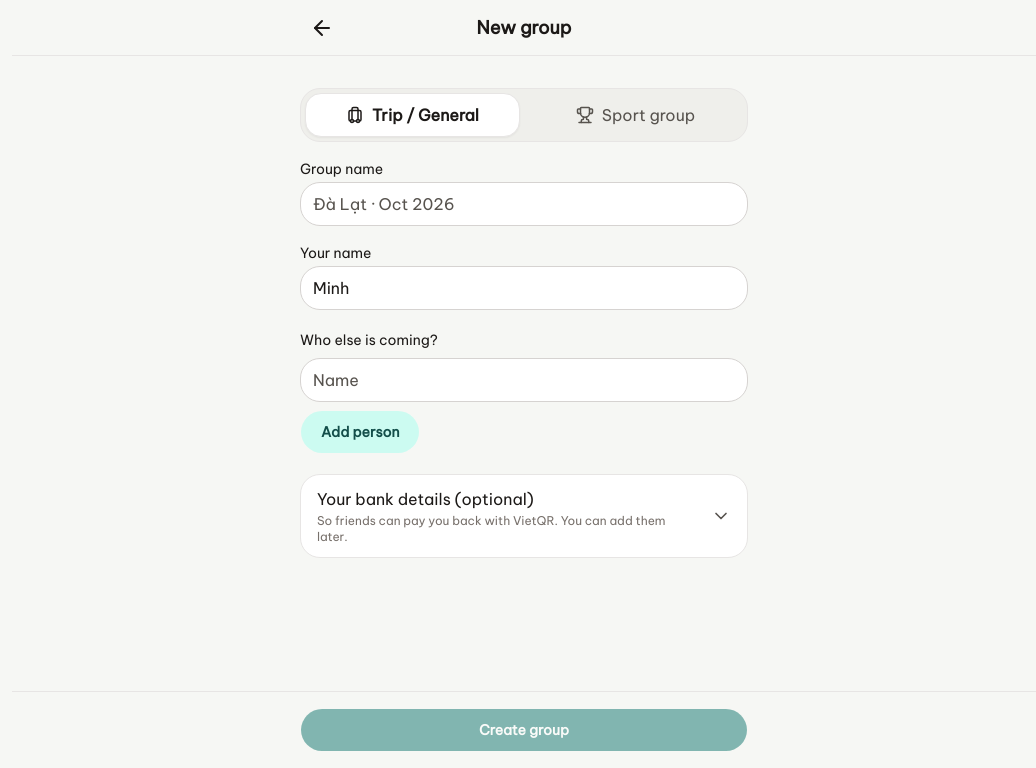
Test case: CreateTrip people › suggests people with an account and adds their account
This screenshot has width=1036, height=768.
Expected: the field labelled "Your name" is shown, x1=300 y1=266 x2=748 y2=310
Type "Đà Lạt" into the field labelled "Group name".
click(524, 204); type("Đà Lạt")  # box x1=300 y1=182 x2=748 y2=226
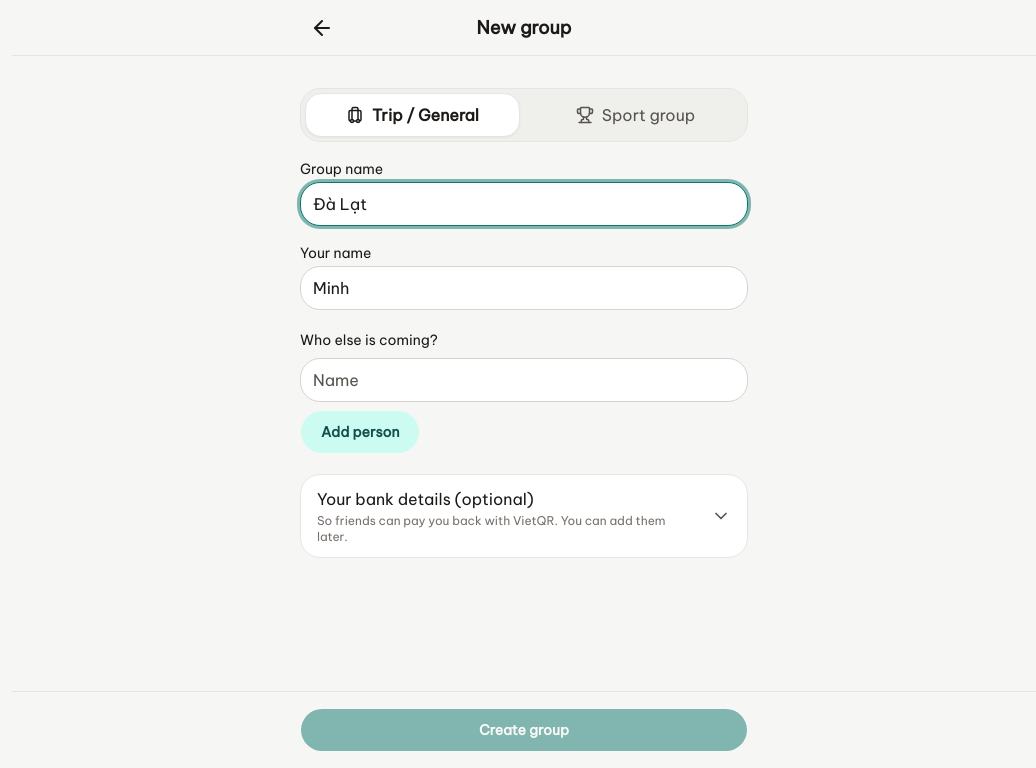
Type "An" into the dropdown with placeholder "Name".
click(524, 380); type("An")  # box x1=300 y1=358 x2=748 y2=402
Then press Enter
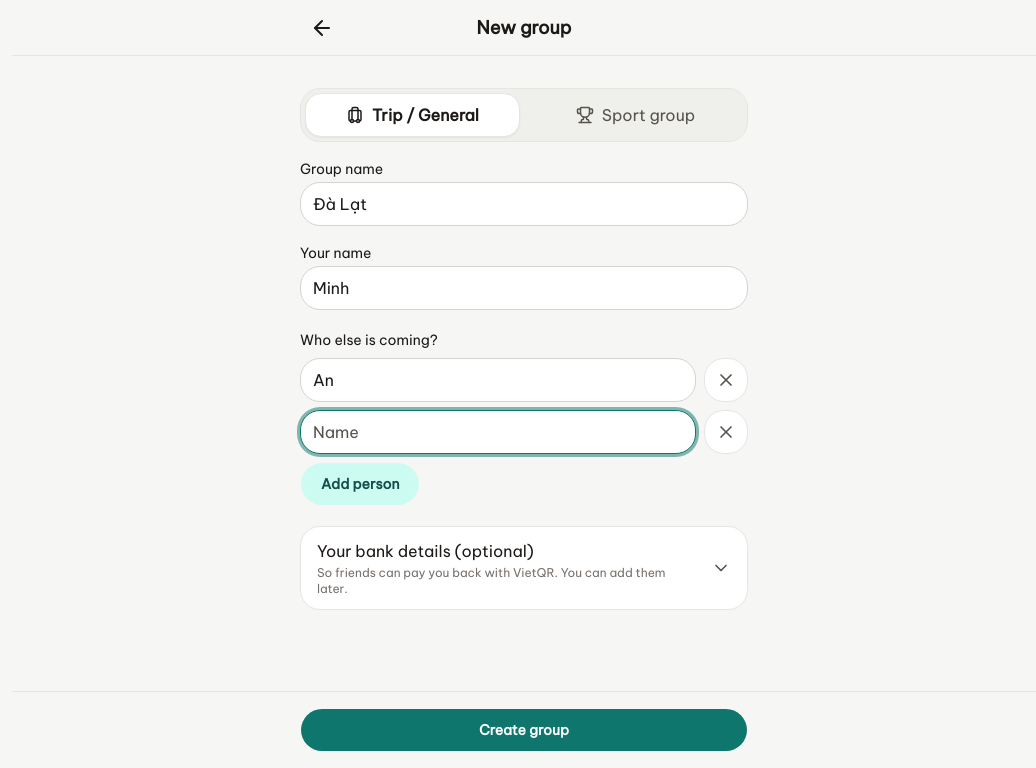
Type "ch" into the dropdown with placeholder "Name".
click(498, 432); type("ch")  # box x1=300 y1=410 x2=696 y2=454
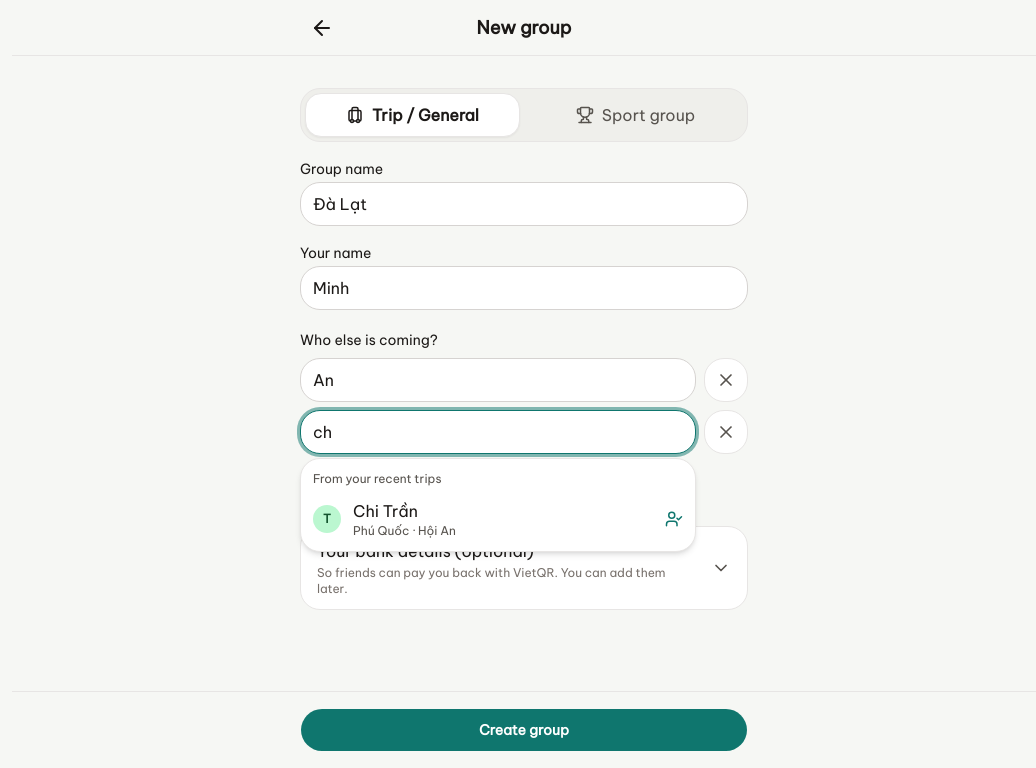
Result: the option "T Chi Trần Phú Quốc · Hội An" is shown
Click the option "T Chi Trần Phú Quốc · Hội An".
click(385, 511)  # box x1=301 y1=491 x2=695 y2=547
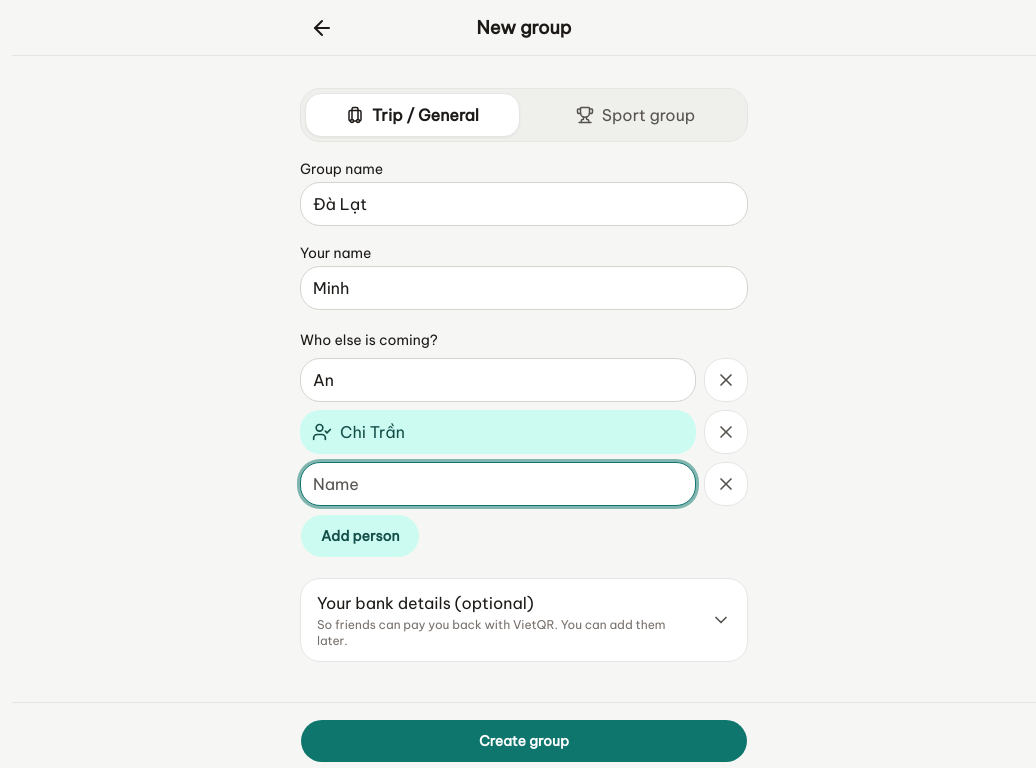
Result: the text "Chi Trần" is shown at x1=340 y1=420 x2=405 y2=444
Result: the list is gone
Click the button "Create group".
click(524, 741)  # box x1=300 y1=719 x2=748 y2=763
(page scrolled)
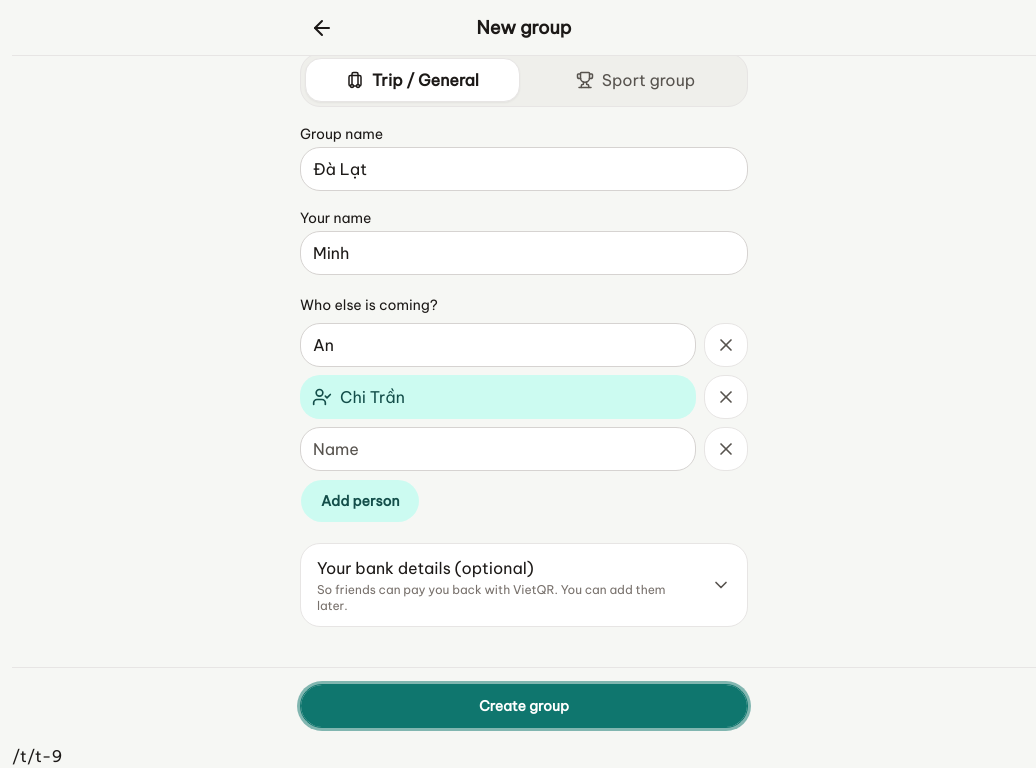
Result: the text with test id "location" reads "/t/t-9" at x1=12 y1=746 x2=62 y2=766
